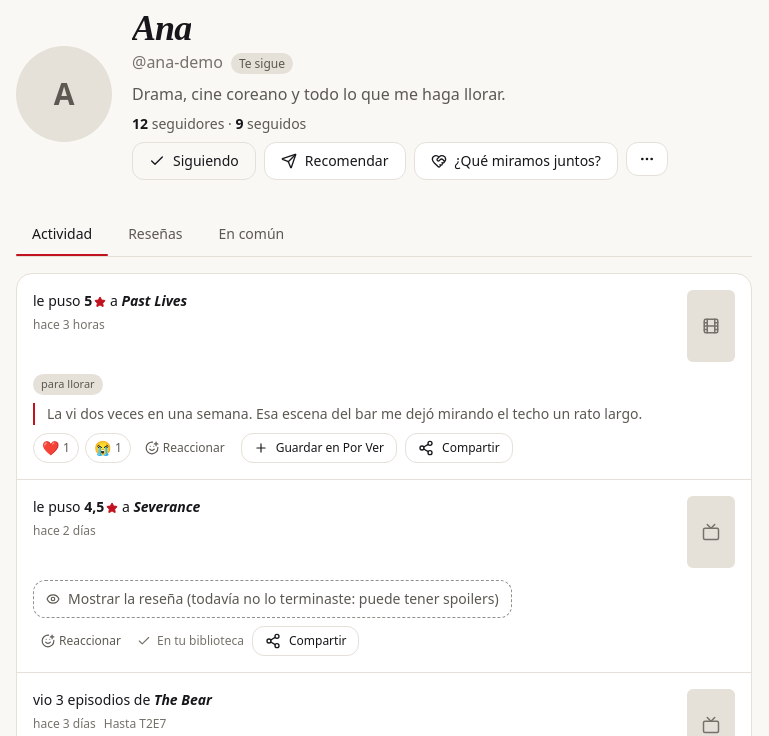
Scenario: UserProfileView › con un mutuo: recomendar, ver juntos y "En común"
Expected: the button "Recomendar" is shown, left=264, top=142, right=406, bottom=180
Click the tab "En común" at (251, 234), box left=203, top=212, right=300, bottom=256
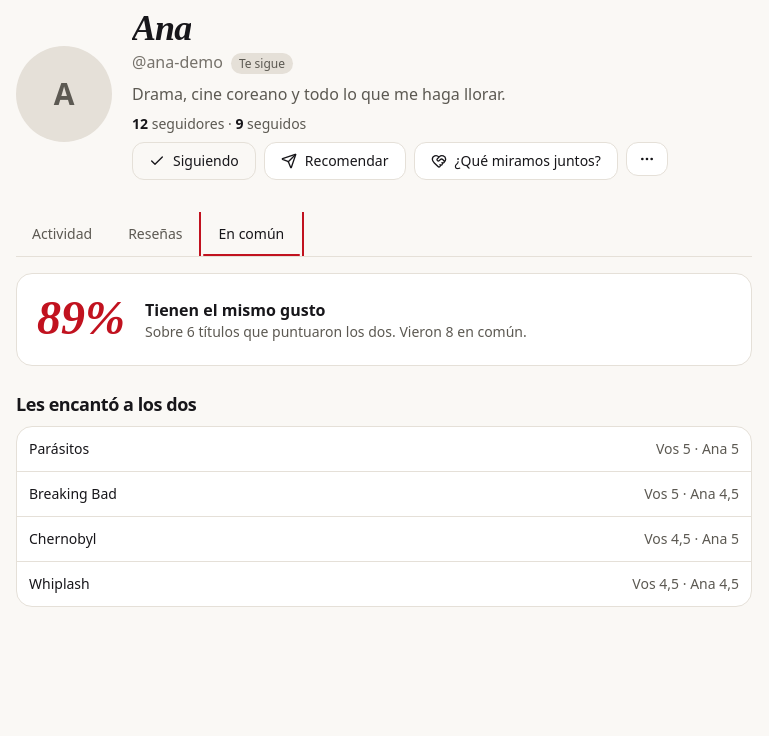
Expected: the text "Sobre 6 títulos que puntuaron los dos. Vieron 8 en común." is shown, left=145, top=322, right=527, bottom=342
Expected: the heading "Les encantó a los dos" is shown, left=16, top=392, right=196, bottom=416
